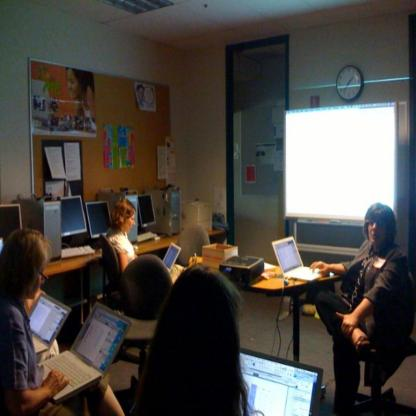board: (18, 295, 130, 400), (239, 346, 322, 415), (26, 291, 72, 353), (271, 236, 328, 284), (161, 242, 183, 272)
